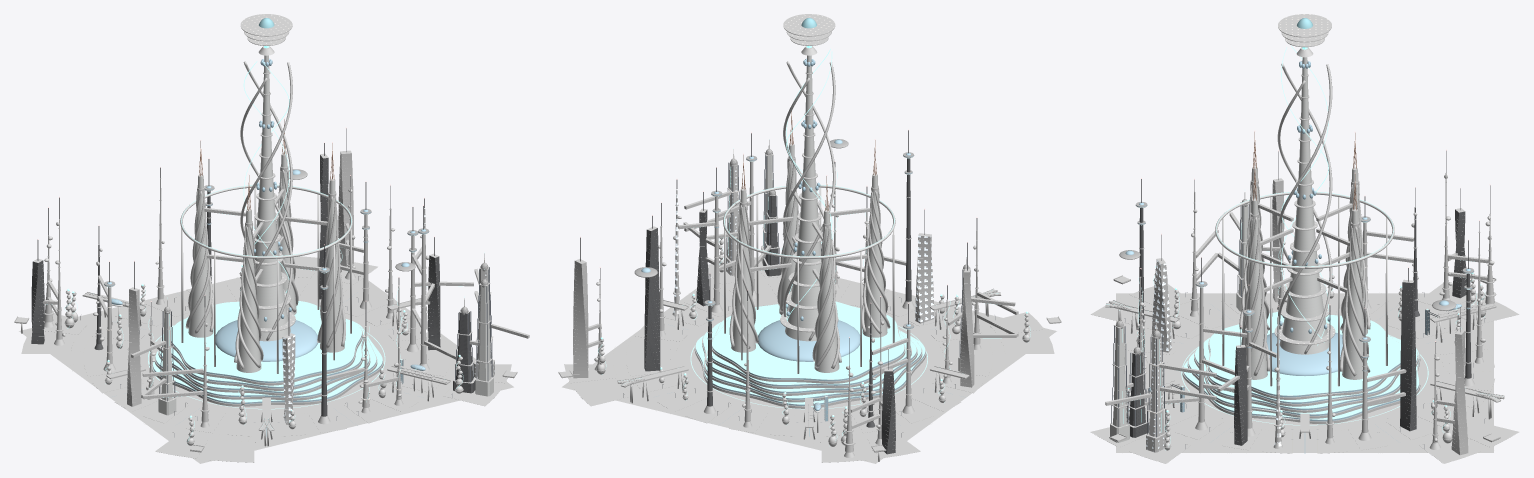
File: Viertel_M2.fbx
3 renders of one model, left to right at view 1: azimuth 30°, elevation 25°; view 2: azimuth 150°, elevation 25°; view 3: azimuth 270°, elevation 25°, orthographic. The views are drawn at different scales.
Visible parts, largest first — view 1: Viertel_M2_Fassaden, Viertel_M2_Details, Viertel_M2_Strasse; view 2: Viertel_M2_Fassaden, Viertel_M2_Details, Viertel_M2_Strasse; view 3: Viertel_M2_Fassaden, Viertel_M2_Details, Viertel_M2_Strasse.
Part boxes in pixels (x1=…): Viertel_M2_Fassaden: x1=31, y1=55, x2=494, y2=445; Viertel_M2_Details: x1=19, y1=14, x2=529, y2=446; Viertel_M2_Strasse: x1=14, y1=256, x2=517, y2=463; Viertel_M2_Fassaden: x1=573, y1=55, x2=1029, y2=457; Viertel_M2_Details: x1=580, y1=14, x2=1030, y2=461; Viertel_M2_Strasse: x1=558, y1=239, x2=1061, y2=463; Viertel_M2_Fassaden: x1=1110, y1=57, x2=1495, y2=455; Viertel_M2_Details: x1=1105, y1=14, x2=1504, y2=450; Viertel_M2_Strasse: x1=1090, y1=275, x2=1519, y2=463.
Bounding box in the file's own units: 72701 × 66322 × 72701.
